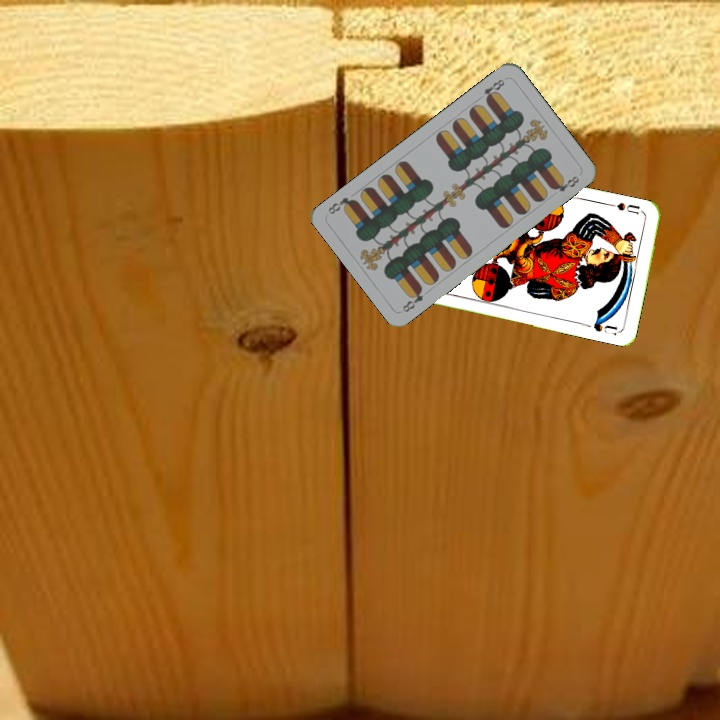E8: (473, 75, 507, 104), (398, 283, 426, 315)
SU: (606, 198, 646, 217)
